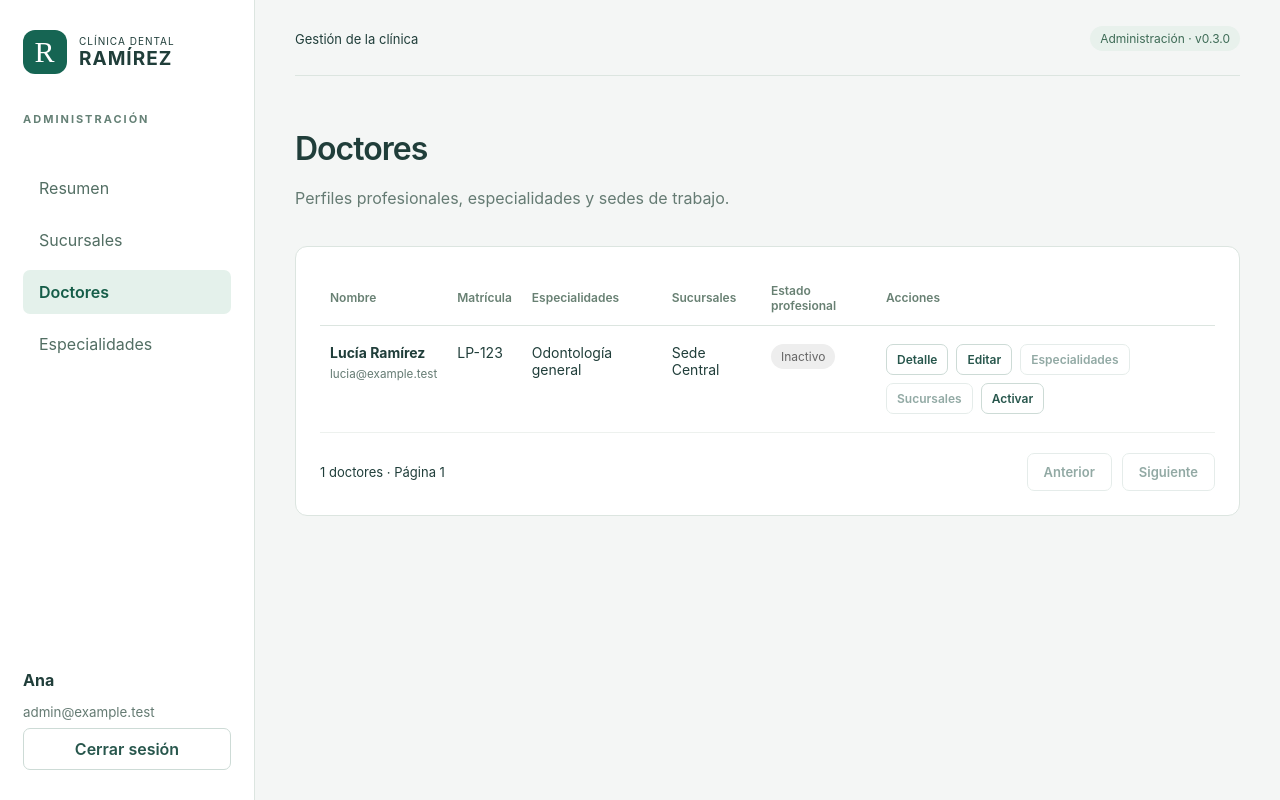
Test: permite cambiar isActive=false con doctors.disable mediante el endpoint de estado
The width and height of the screenshot is (1280, 800).
Click the button "Activar": (1012, 398) [981, 383, 1044, 414]
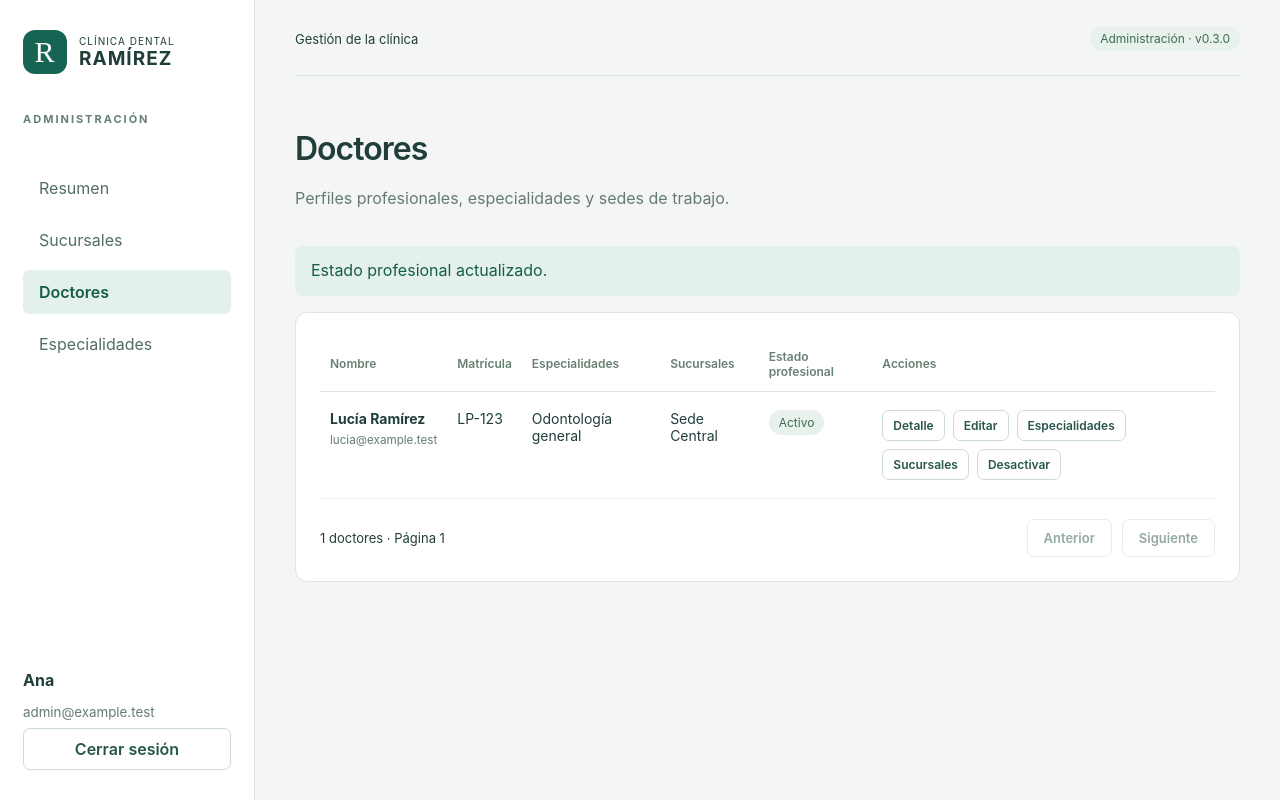
Result: the text "Estado profesional actualizado." is shown at [295, 246, 1240, 296]
Result: the button "Desactivar" is shown at [977, 449, 1061, 480]
